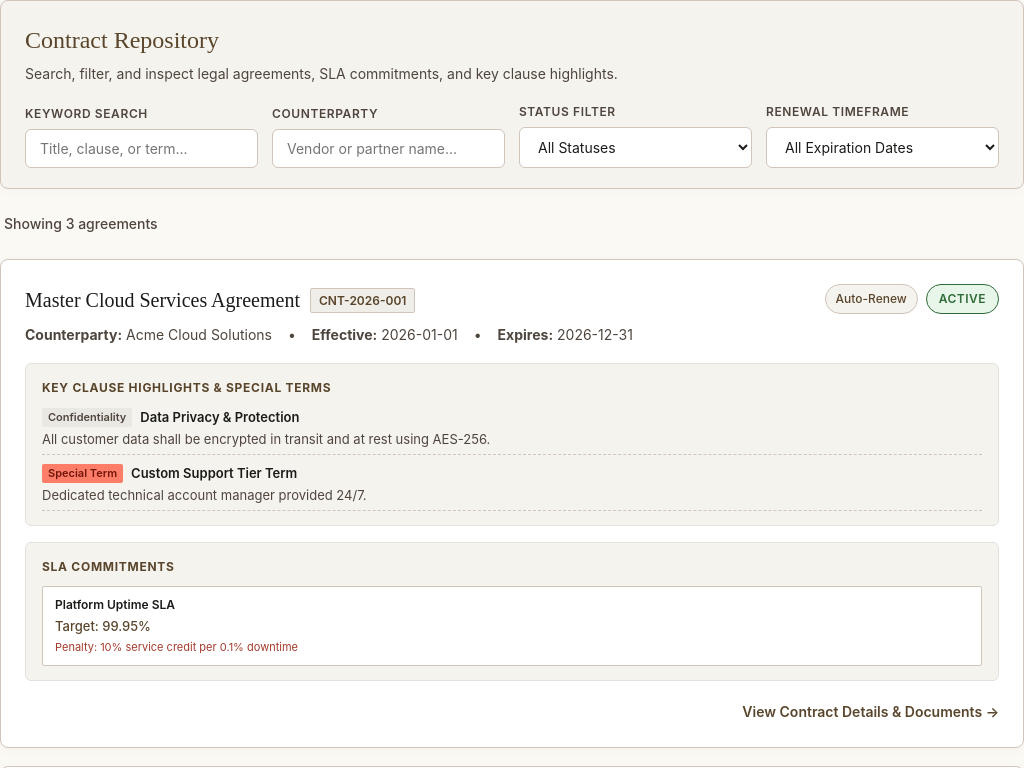
Test: ContractList Component › filters contracts by keyword search [FR-7]
Step 1. Type "Consulting" into the field with test id "search-input" → (142, 148), box [25, 129, 258, 168]
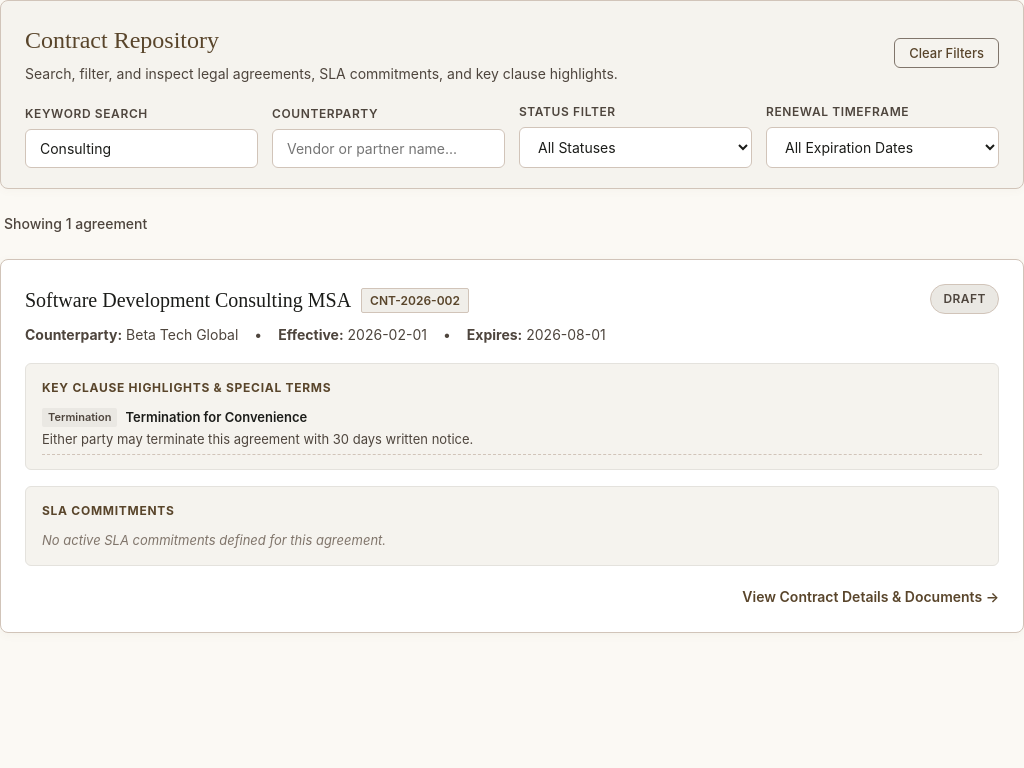
Expected: the heading "Software Development Consulting MSA" is shown, [25, 284, 351, 316]
Expected: the text with test id "results-count" reads "Showing 1 agreement", [4, 215, 147, 232]
Expected: the heading "Master Cloud Services Agreement" is gone
